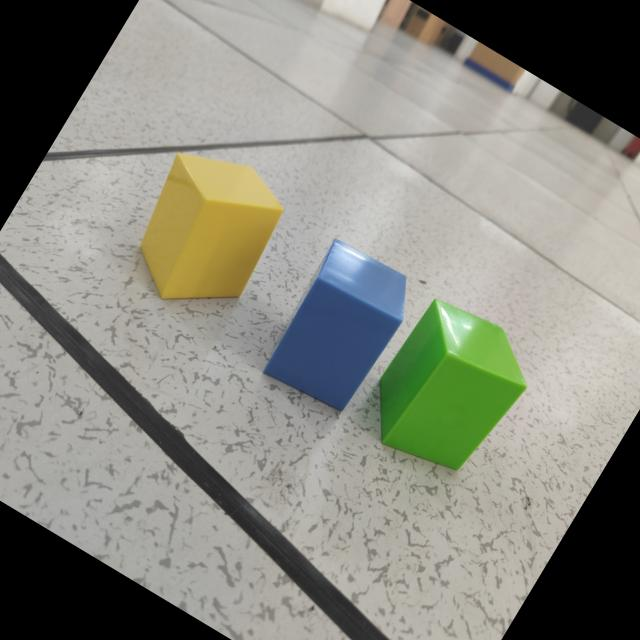blue: (262, 241, 407, 413)
green: (378, 300, 526, 473)
yellow: (139, 154, 283, 303)
